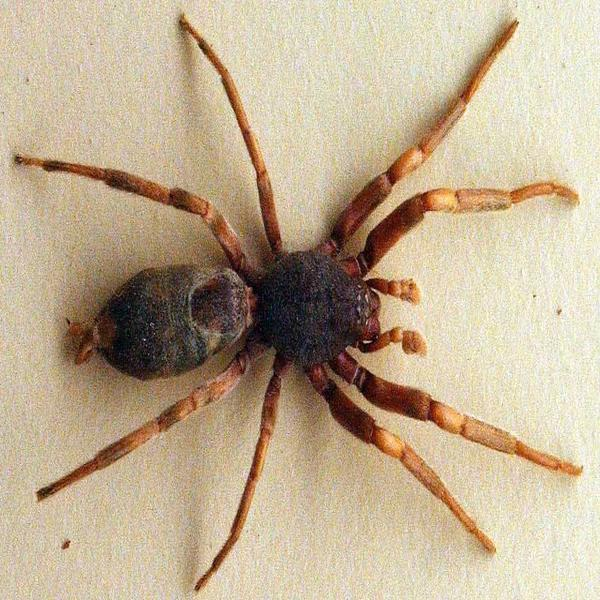White-Tailed Spider: (36, 27, 545, 552)
